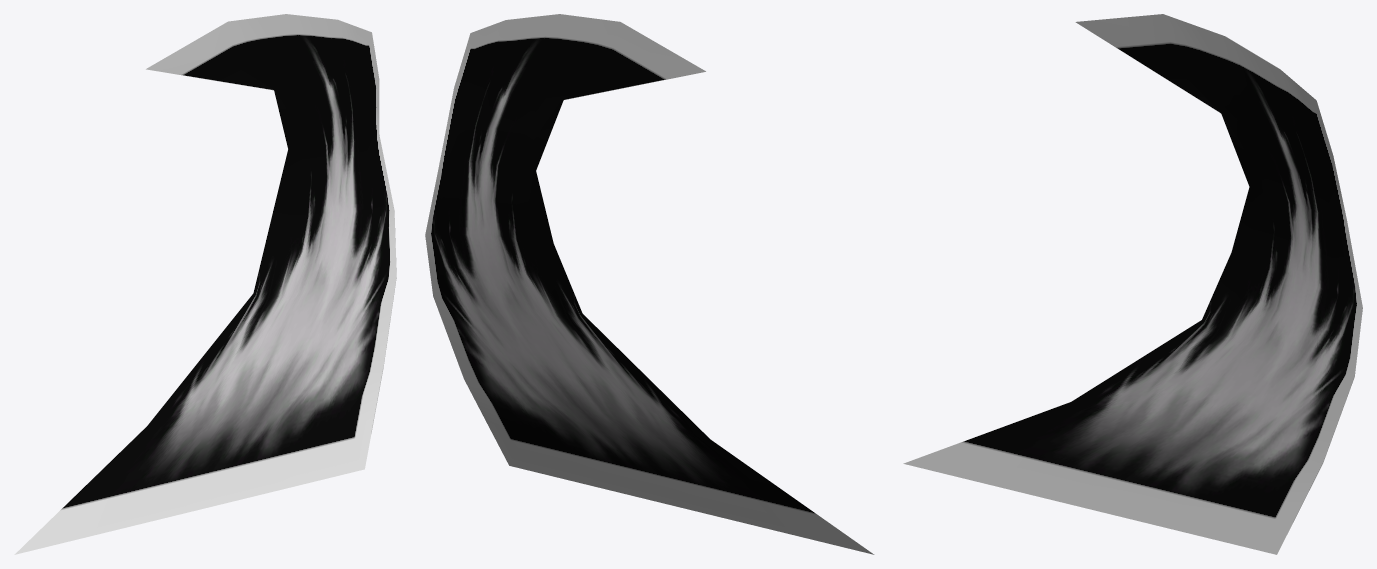
The model's file is yan.FBX.
The picture shows the model from 3 angles, left to right: view 1: azimuth 30°, elevation 25°; view 2: azimuth 150°, elevation 25°; view 3: azimuth 330°, elevation 25°; orthographic projection. The views are drawn at different scales.
Visible parts, largest first — view 1: Plane002; view 2: Plane002; view 3: Plane002.
Boxes of the visible parts, left/top/right/bottom form: Plane002: left=14, top=14, right=396, bottom=554; Plane002: left=425, top=14, right=874, bottom=554; Plane002: left=903, top=14, right=1362, bottom=554.
Bounding box in the file's own units: 89.62 × 98.45 × 9.73.
Materials: 1 (1 with a texture image).
